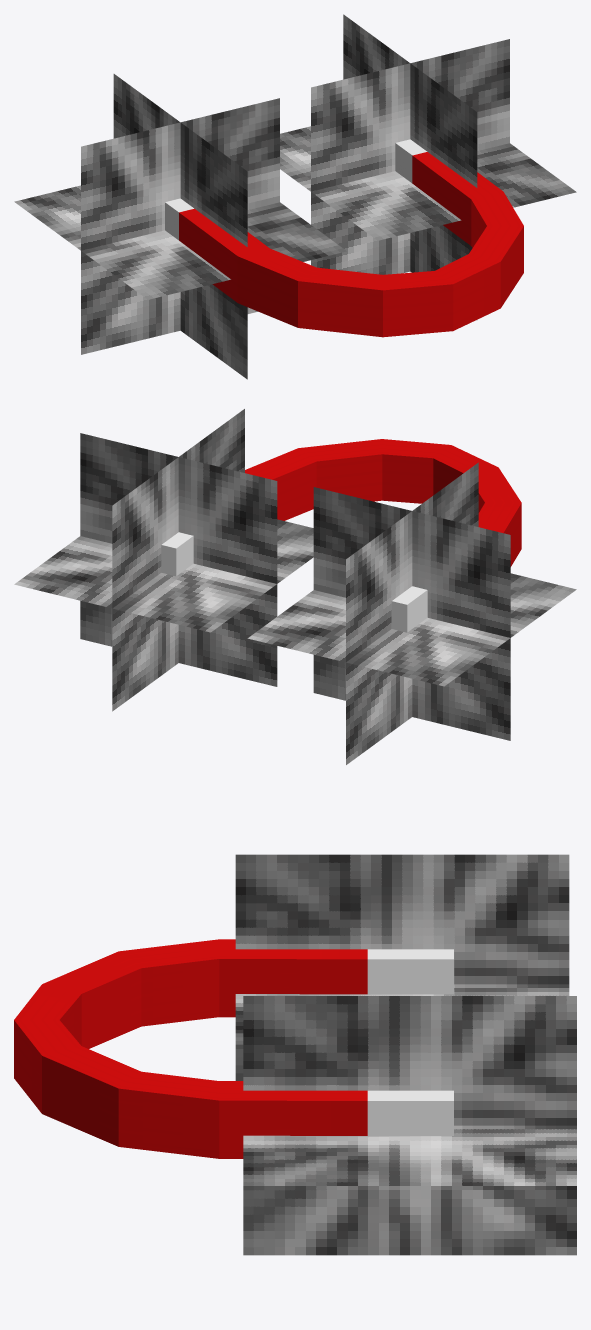
Rendered from magnet.dae.
3 views of the same model, one above another, from view 1: azimuth 30°, elevation 25°; view 2: azimuth 150°, elevation 25°; view 3: azimuth 270°, elevation 25° (orthographic). The views are drawn at different scales.
Visible parts, largest first — view 1: magnet; view 2: magnet; view 3: magnet.
Part boxes in pixels (left/top/right/bottom): magnet: left=14, top=14, right=576, bottom=379; magnet: left=14, top=409, right=576, bottom=764; magnet: left=14, top=854, right=576, bottom=1255.
Size of the model in its own units: 0.4822 by 0.4375 by 0.2222.
